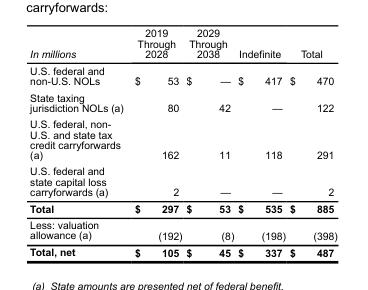table: (29, 29, 336, 259)
table column: (29, 29, 128, 259), (128, 29, 183, 259), (183, 29, 235, 259), (235, 29, 286, 259), (286, 29, 336, 259)
table column header: (29, 29, 336, 63)
table row: (29, 117, 336, 164), (29, 164, 336, 201), (29, 29, 336, 63), (29, 63, 336, 90), (29, 90, 336, 117), (29, 218, 336, 245), (29, 201, 336, 218), (29, 245, 336, 259)
